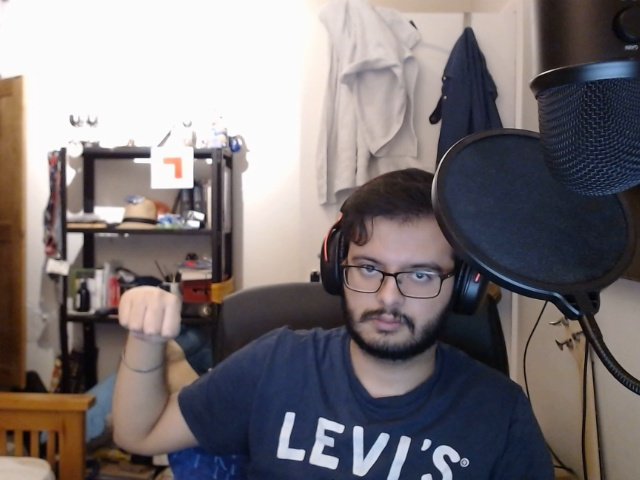Yes: (108, 282, 195, 346)
